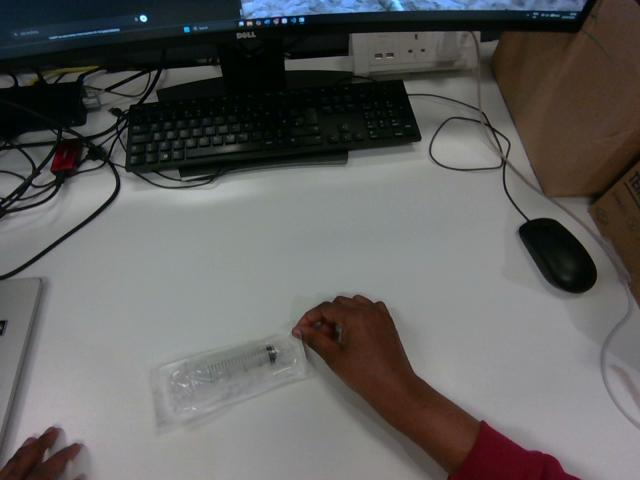syringe: (151, 334, 306, 426)
